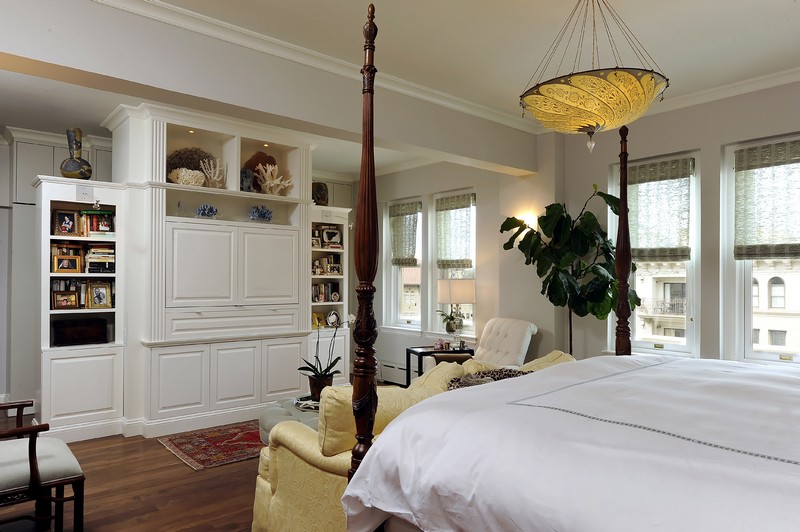bed: (352, 264, 797, 529)
chair: (2, 396, 85, 529)
lamp: (432, 269, 477, 343)
sofa: (258, 392, 422, 528), (468, 321, 533, 377)
